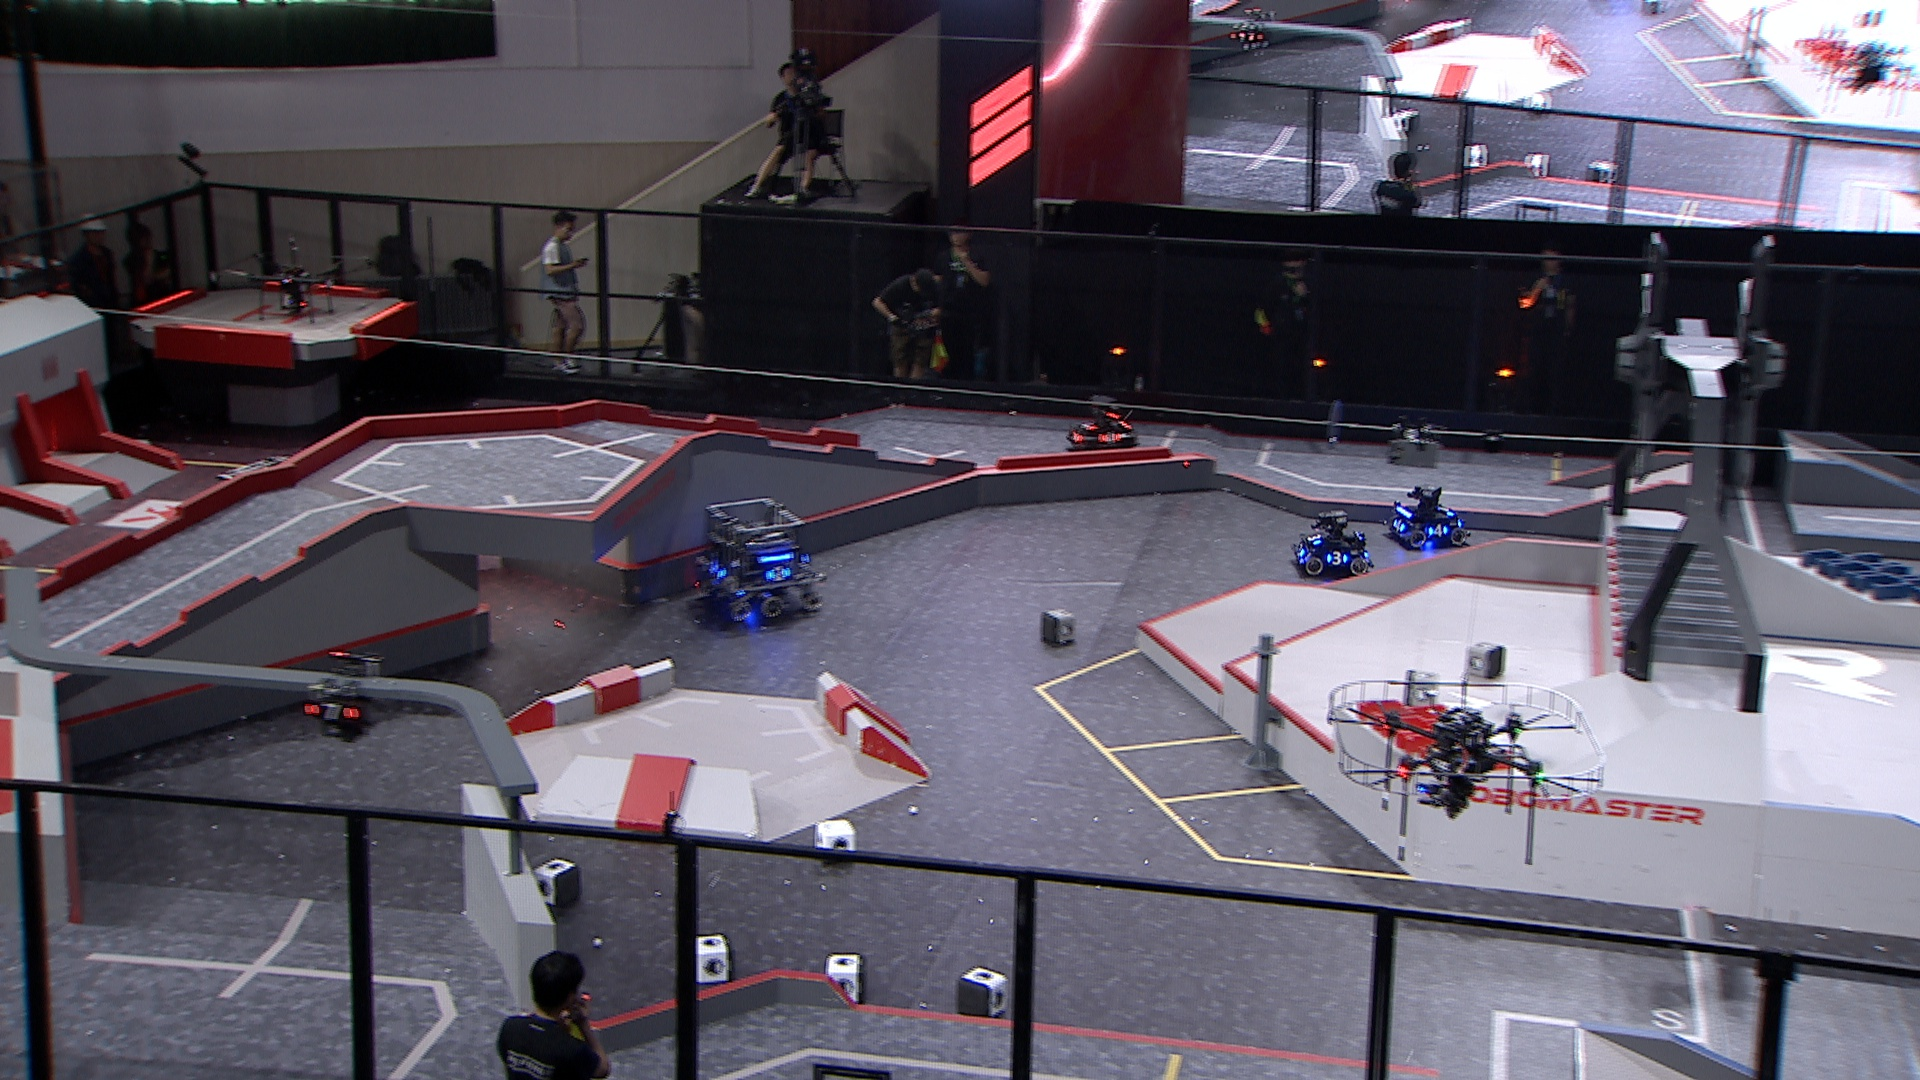armor: (309, 702, 357, 723), (766, 566, 793, 583), (1427, 520, 1447, 535), (1327, 551, 1346, 567), (1068, 427, 1087, 443), (705, 560, 724, 576), (1294, 543, 1307, 564), (1437, 502, 1453, 520), (1391, 520, 1408, 535), (1309, 531, 1323, 547), (1101, 433, 1120, 442), (1083, 419, 1093, 433)
car: (698, 495, 827, 622), (1292, 506, 1371, 582), (1387, 484, 1466, 551), (1063, 392, 1138, 450)
ignore: (1233, 8, 1280, 51)
watcher: (301, 646, 396, 741)
